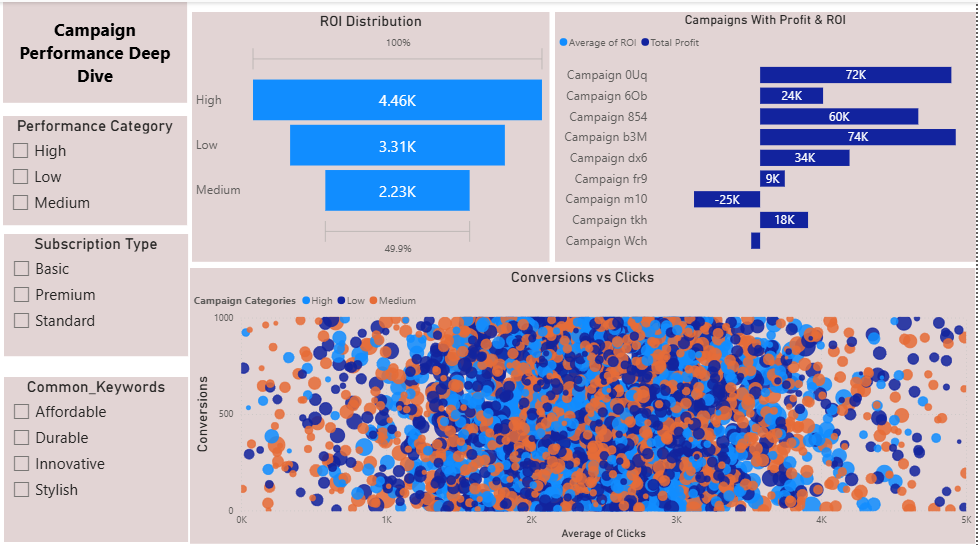

The dashboard page shown, as its layout file describes it:
{"tool":"powerbi","page":{"name":"Campaign Analysis","canvas":[1280,720],"ordinal":1},"visuals":[{"type":"shape","box":[6.2,0,241.1,132.2],"z":0},{"type":"funnel","title":"ROI Distribution","fields":{"Category":["marketing_and_product_performance.Campaign Categories"],"Y":["CountNonNull(marketing_and_product_performance.Campaign ID)"]},"box":[253.5,12.4,468.1,326.6],"z":1000},{"type":"scatterChart","title":"Conversions vs Clicks","fields":{"X":["Avg(marketing_and_product_performance.Clicks)"],"Y":["marketing_and_product_performance.Conversions"],"Size":["Sum(marketing_and_product_performance.Revenue_Generated)"],"Series":["marketing_and_product_performance.Campaign Categories"]},"box":[252,348.4,1028,360.8],"z":2000},{"type":"barChart","title":"Campaigns With Profit & ROI","fields":{"Category":["marketing_and_product_performance.Campaign ID"],"Y":["Avg(marketing_and_product_performance.ROI)","Measure.Total Profit"]},"box":[729.4,12.4,550.6,326.6],"z":4000},{"type":"slicer","title":"Common_Keywords","fields":{"Values":["marketing_and_product_performance.Common_Keywords"]},"box":[7.8,491.5,241.1,216.2],"z":5000},{"type":"slicer","title":"Performance Category","fields":{"Values":["marketing_and_product_performance.Campaign Categories"]},"box":[6.2,149.3,241.1,143.1],"z":6000},{"type":"slicer","title":"Subscription Type","fields":{"Values":["marketing_and_product_performance.Subscription_Tier"]},"box":[7.8,304.1,241.1,160.2],"z":7000}]}

Visuals, with their boxes in screenshot pixels (x1, y1, x2, y2), scaled from the page's 1280x720 canvas onto the 978x545 screenshot:
shape: 5/0/189/100
"ROI Distribution" funnel: 194/9/551/257
"Conversions vs Clicks" scatterChart: 193/264/977/537
"Campaigns With Profit & ROI" barChart: 557/9/977/257
"Common_Keywords" slicer: 6/372/190/536
"Performance Category" slicer: 5/113/189/221
"Subscription Type" slicer: 6/230/190/351
